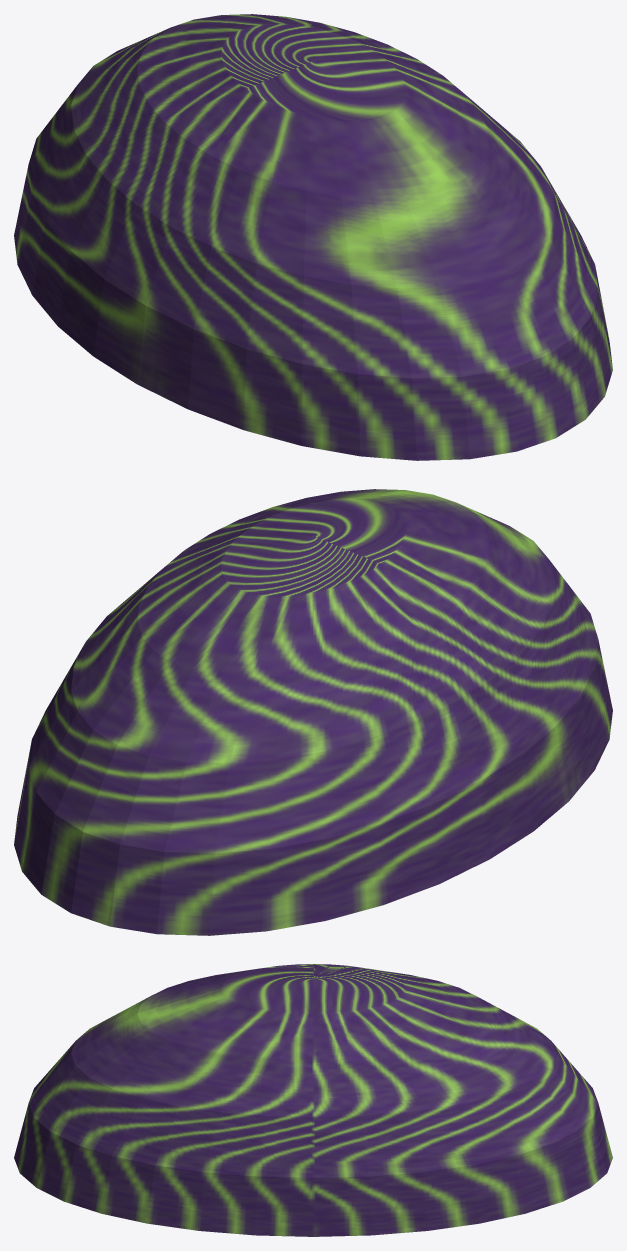
3 views of the same model, one above another, from view 1: azimuth 30°, elevation 25°; view 2: azimuth 150°, elevation 25°; view 3: azimuth 270°, elevation 25° (orthographic). The views are drawn at different scales.
Visible parts, largest first — view 1: geometry_0; view 2: geometry_0; view 3: geometry_0.
Part boxes in pixels (x1=…): geometry_0: x1=14, y1=14, x2=612, y2=460; geometry_0: x1=14, y1=489, x2=612, y2=935; geometry_0: x1=14, y1=964, x2=612, y2=1236.
Size of the model in its own units: 2.11 by 1.11 by 3.37.
1 material, 1 textured.
